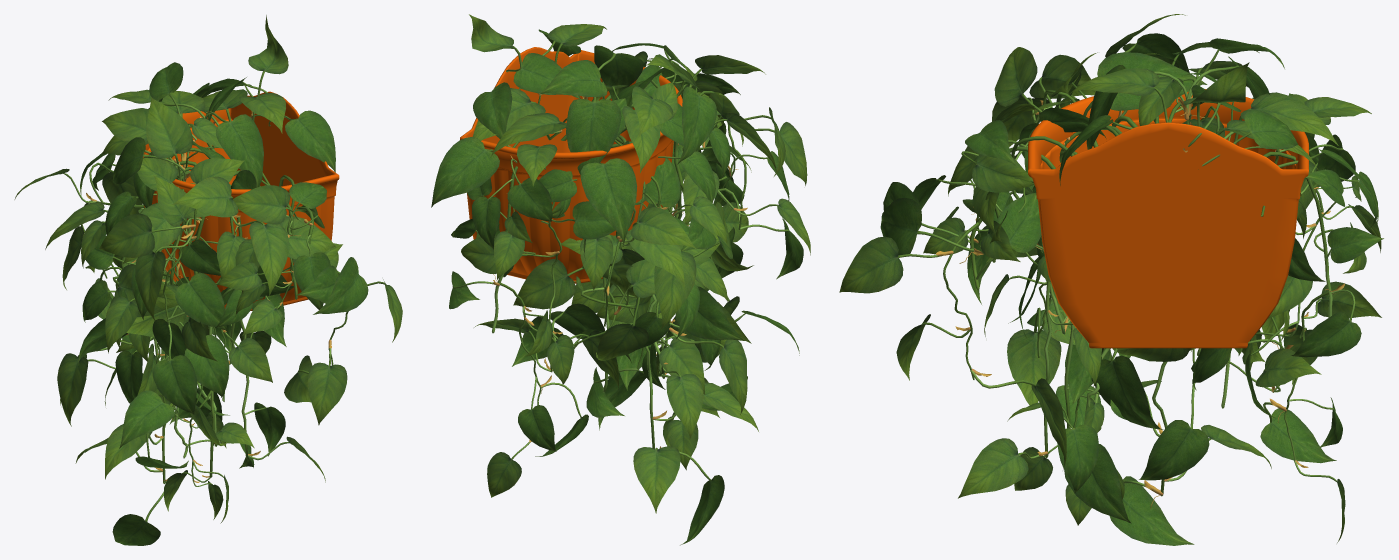
File: plant_15.glb
3 views of the same model, side by side, from view 1: azimuth 30°, elevation 25°; view 2: azimuth 150°, elevation 25°; view 3: azimuth 270°, elevation 25° (orthographic). The views are drawn at different scales.
Visible parts, largest first — view 1: Plants_VOL02_02; view 2: Plants_VOL02_02; view 3: Plants_VOL02_02.
Part boxes in pixels (bbox=[...]): Plants_VOL02_02: bbox=[14, 15, 402, 545]; Plants_VOL02_02: bbox=[431, 14, 810, 545]; Plants_VOL02_02: bbox=[839, 14, 1383, 545].
Size of the model in its own units: 0.4184 by 0.7858 by 0.6583.
2 materials, 1 textured.
